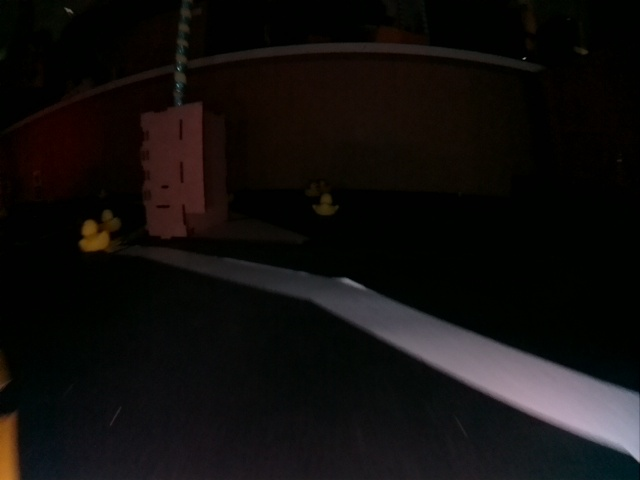Duckie: (78, 222, 109, 252), (101, 211, 122, 233), (316, 197, 338, 215), (321, 182, 331, 192), (309, 183, 315, 195)
